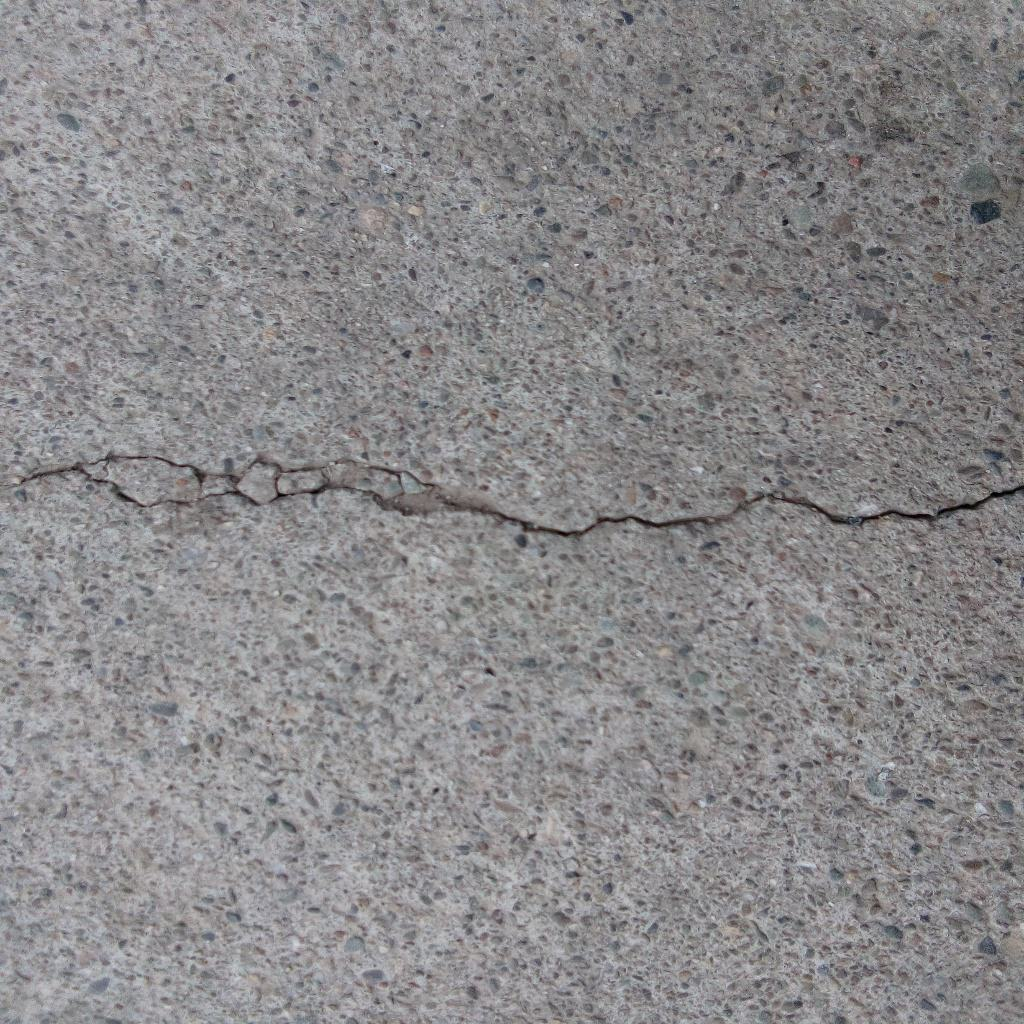Crack: (1, 455, 1024, 537)
